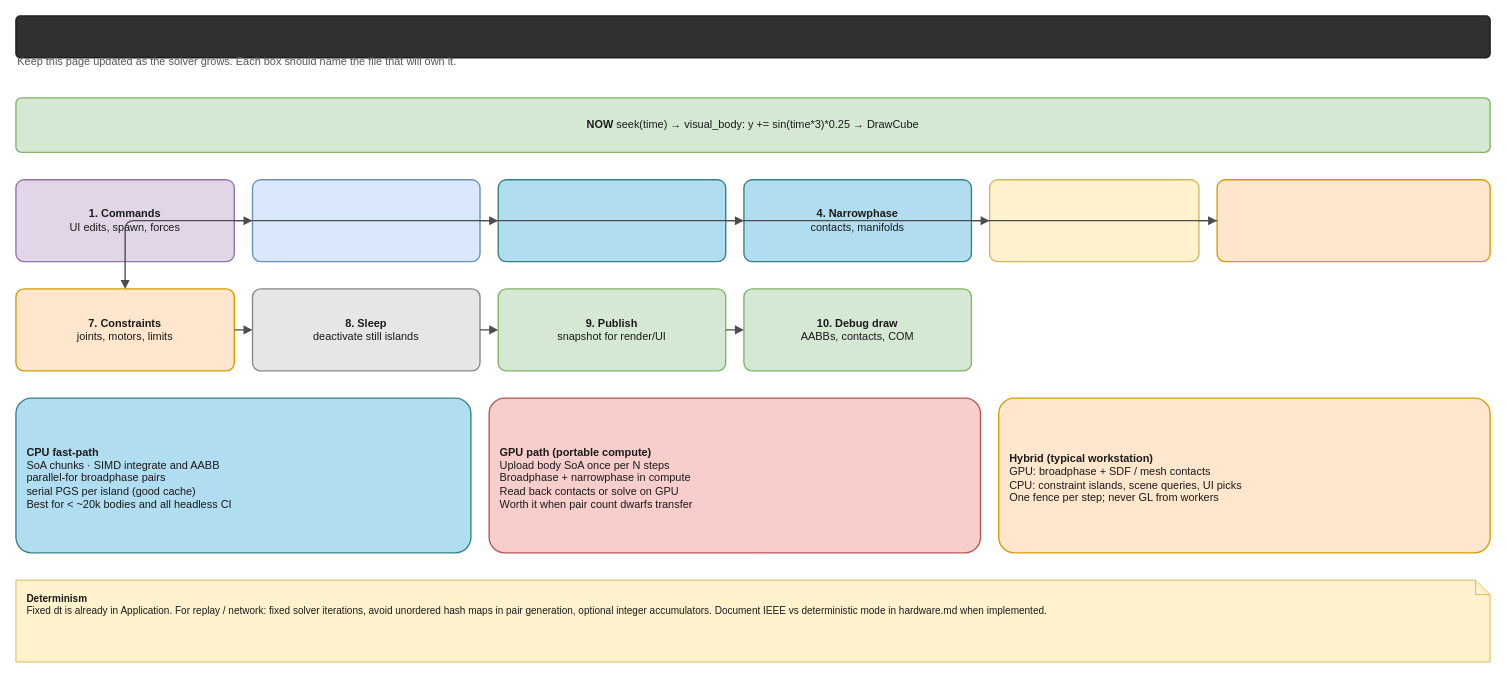
Some shapes in this 1507 by 679 pixel diagram are drawn without their labels. Here are the shapes that lost their labels. From the top down, the box of each, then its label:
(15, 15, 1490, 58): Physics pipeline — current vs target
(251, 179, 480, 262): 2. Integrate v += a dt · x += v dt semi-implicit Euler
(497, 179, 726, 262): 3. Broadphase AABB / sweep SAP / BVH
(989, 179, 1199, 262): 5. Islands union-find wake graph
(1216, 179, 1490, 262): 6. Solve PGS / TGS / XPBD
